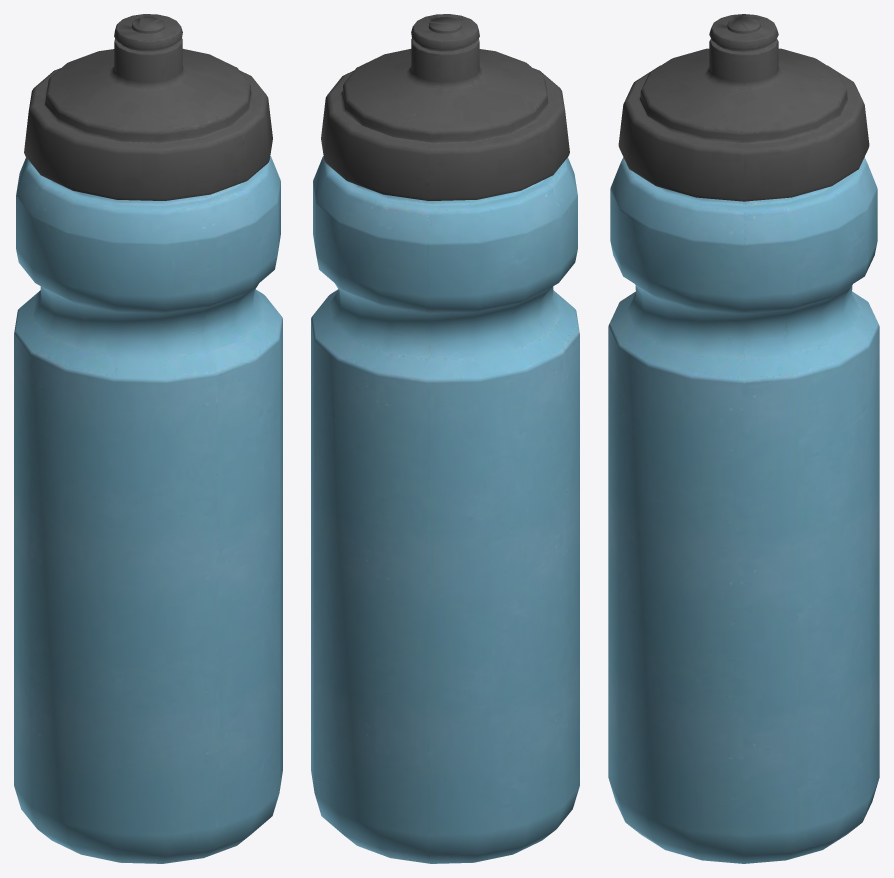
Rendered from water-bottle.glb.
3 views of the same model, side by side, from view 1: azimuth 30°, elevation 25°; view 2: azimuth 150°, elevation 25°; view 3: azimuth 270°, elevation 25° (orthographic).
Parts seen in each view (by area): view 1: Object_2; view 2: Object_2; view 3: Object_2.
Part boxes in pixels (left/top/right/bottom): Object_2: left=14, top=14, right=282, bottom=863; Object_2: left=311, top=14, right=579, bottom=863; Object_2: left=608, top=14, right=879, bottom=863.
Size of the model in its own units: 2.82 by 9.1 by 2.82.
Materials: 1 (1 with a texture image).
